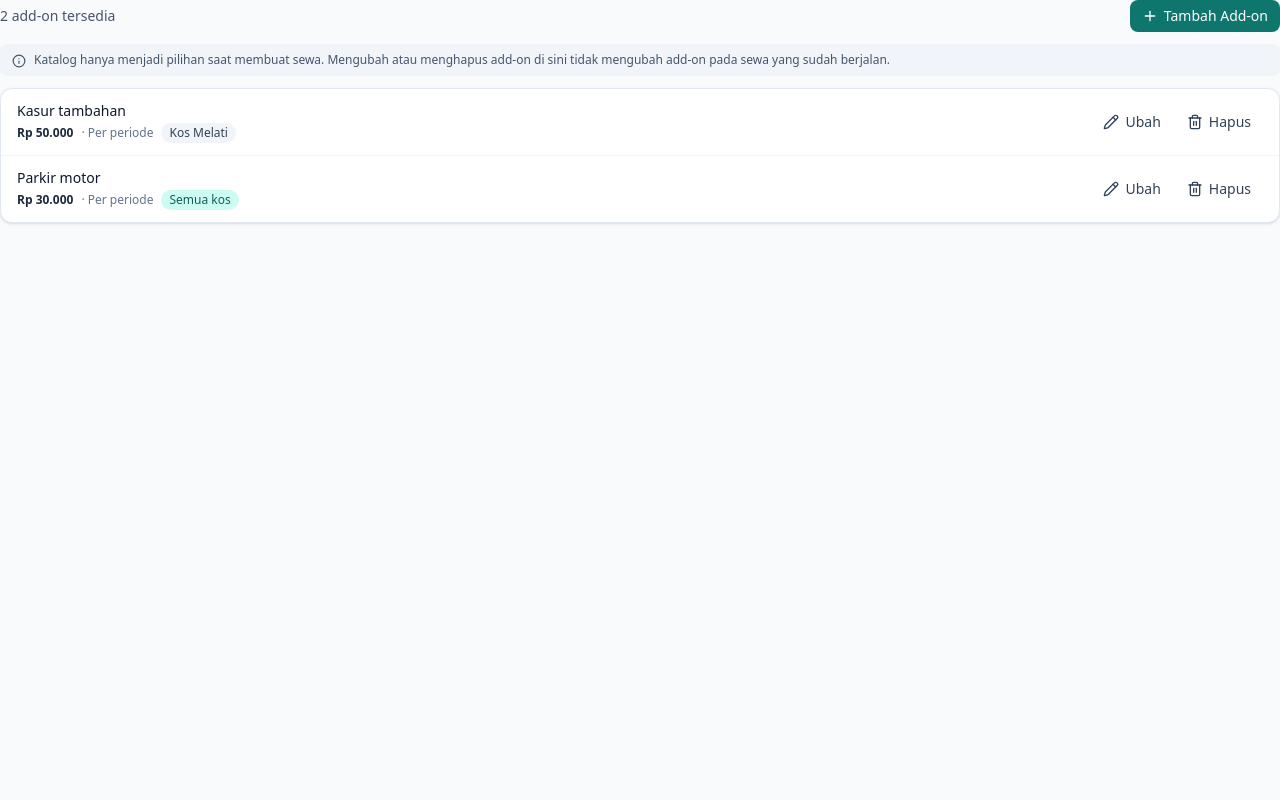
Test: AddonsTab delete › an add-on already deleted on another device: the error is shown and the list refreshes, so it does not fail again
This screenshot has width=1280, height=800.
Expected: the text "Kasur tambahan" is shown, [17,101,126,120]
Step 1. Click the button with aria-label "Hapus Kasur tambahan" → (1219, 122), box [1175,106,1263,138]
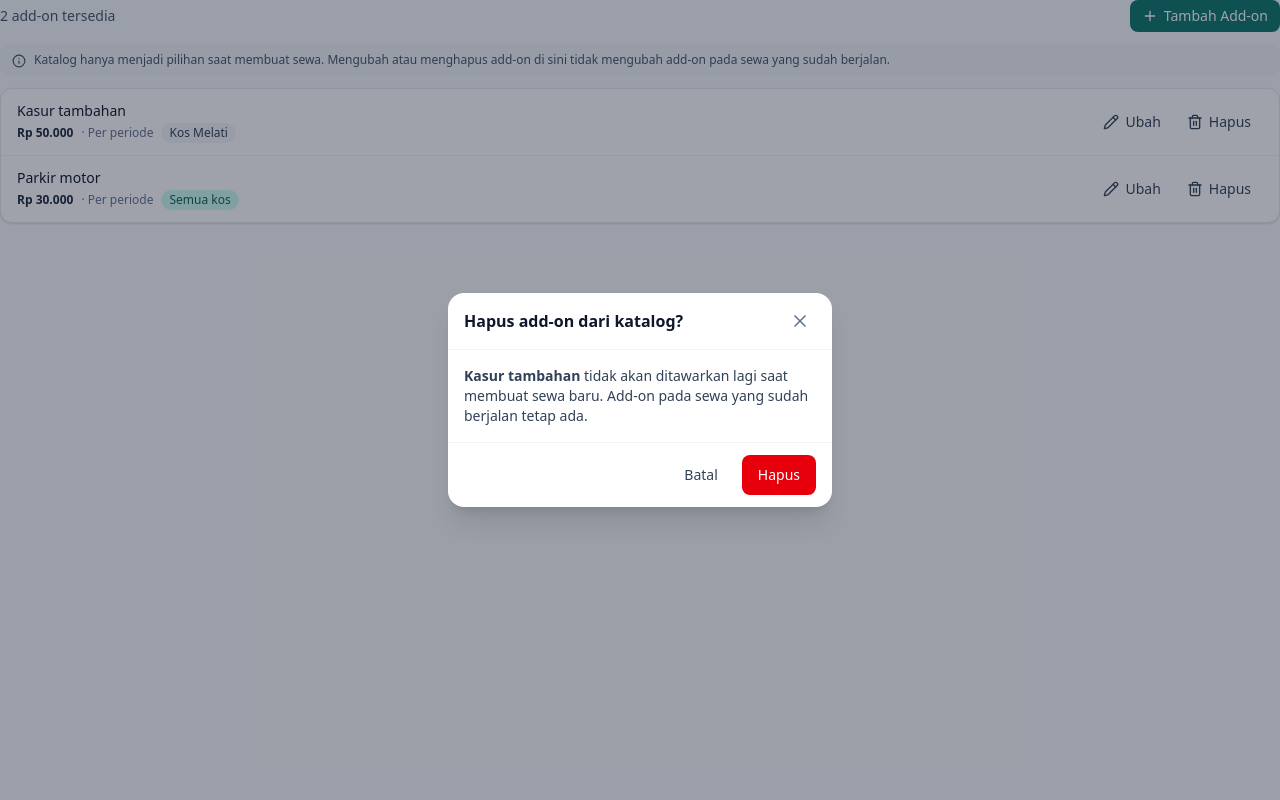
Step 2. Click the button "Hapus" → (779, 475), box [742,455,816,495]
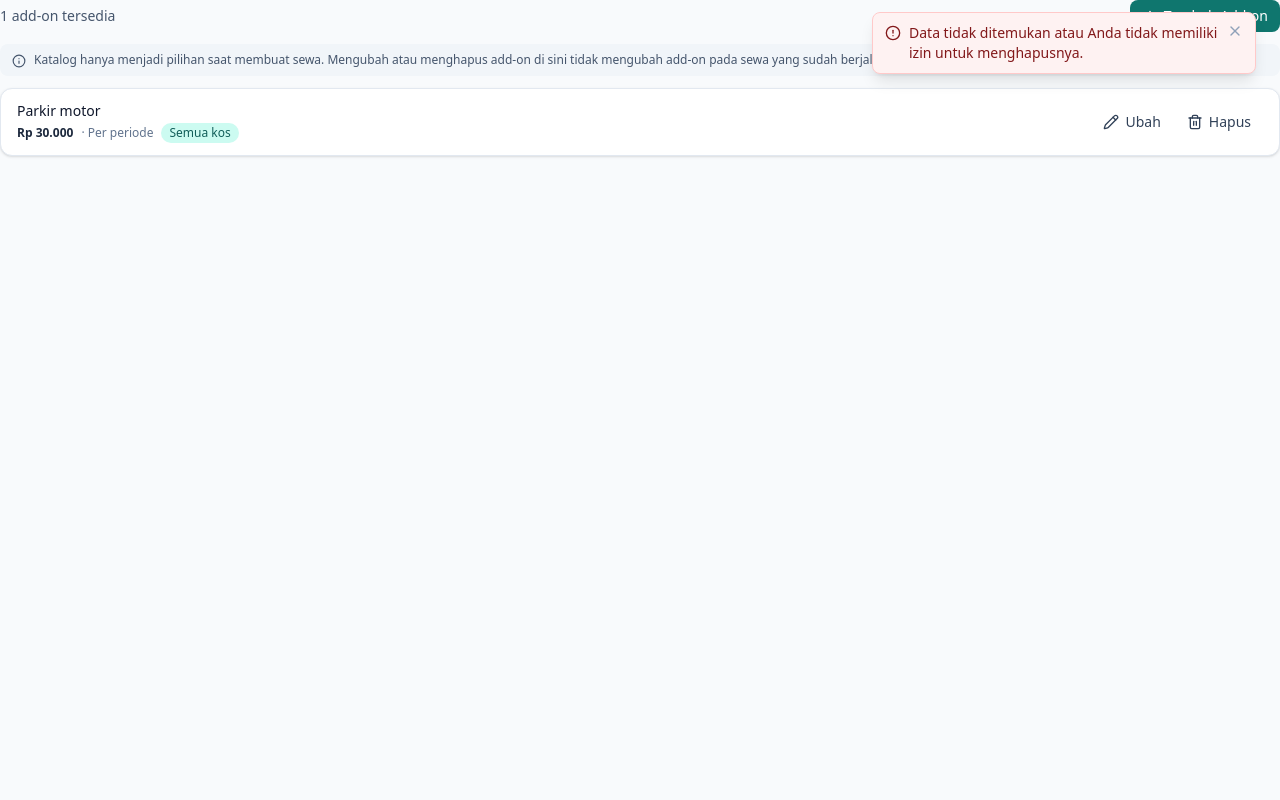
Expected: the text "Parkir motor" is shown, [17,101,100,120]
Expected: the text "Data tidak ditemukan atau Anda tidak memiliki izin untuk menghapusnya." is shown, [909,23,1219,63]
Expected: the text "Kasur tambahan" is gone
